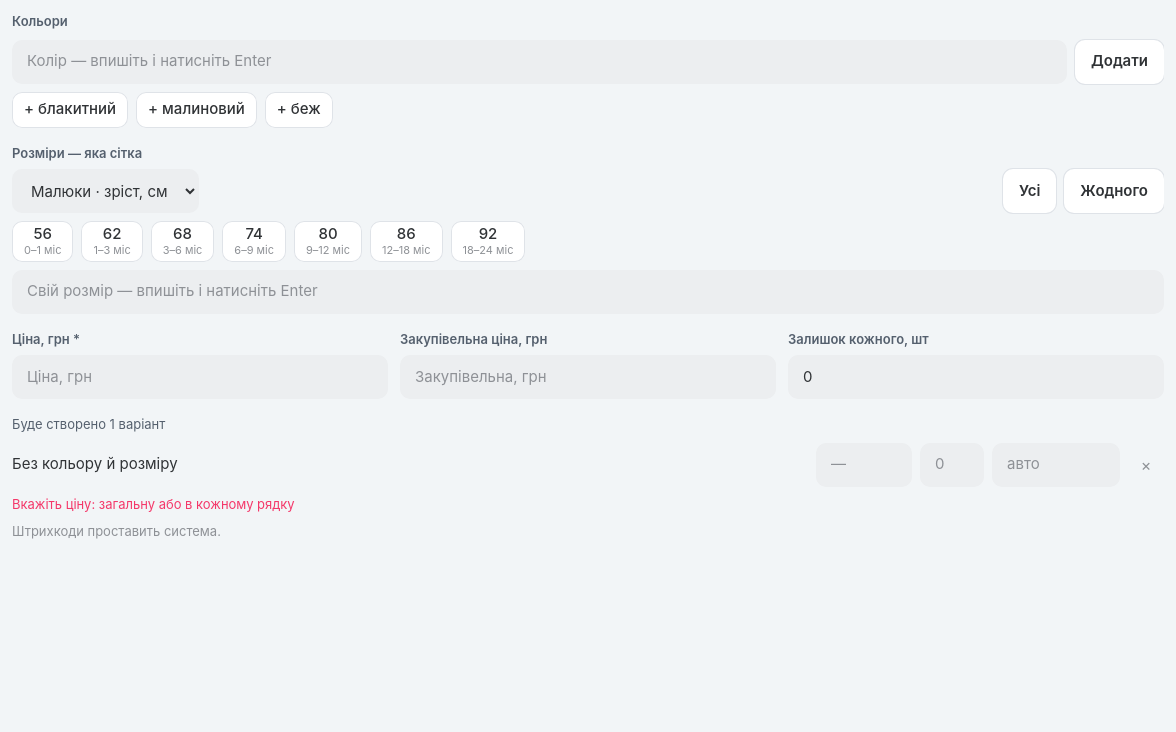
Scenario: VariantMatrix — the scales › offers pairs of heights written the way the shop writes them
Select "Зріст від–до, см" in the dropdown named "Сітка розмірів" at (106, 191), box 12,169 -> 199,213
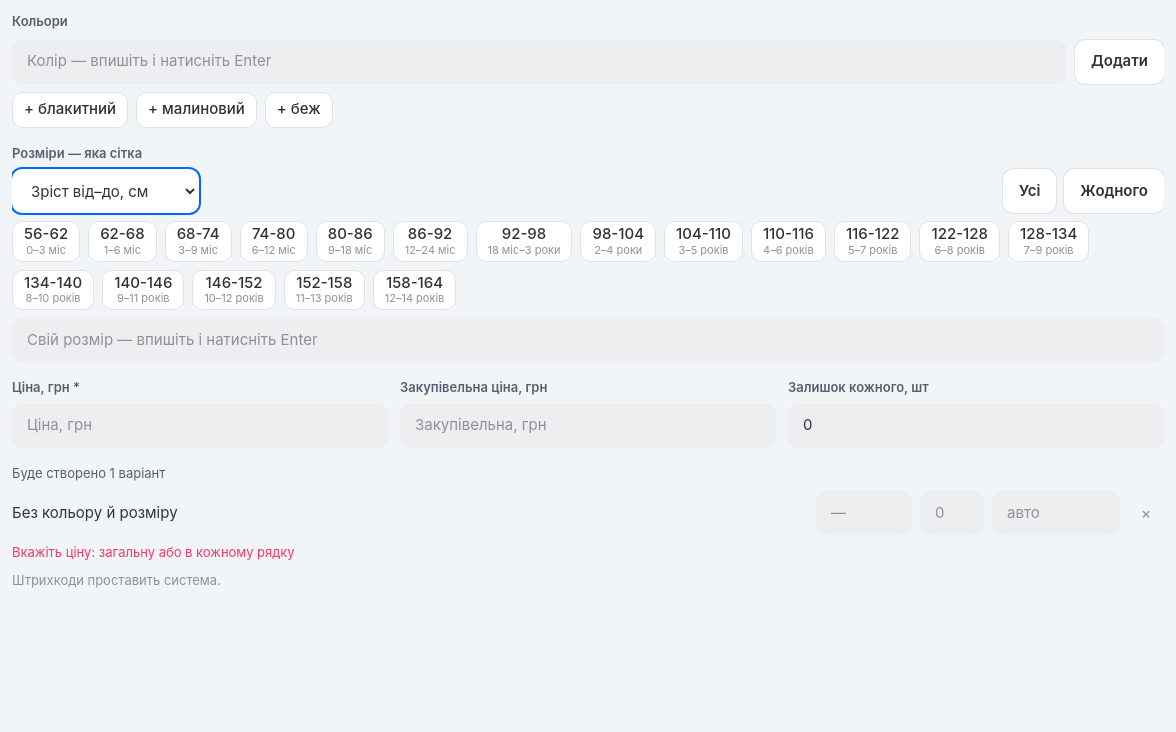
Expected: the button "98-104 2–4 роки" is shown, 580,221 -> 656,262
Expected: the button "56-62 0–3 міс" is shown, 12,221 -> 80,262
